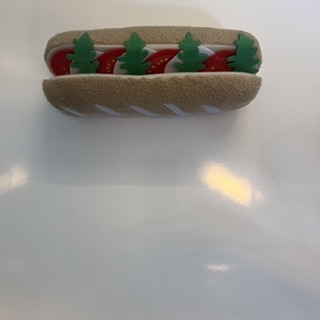sandwich: (43, 28, 262, 118)
